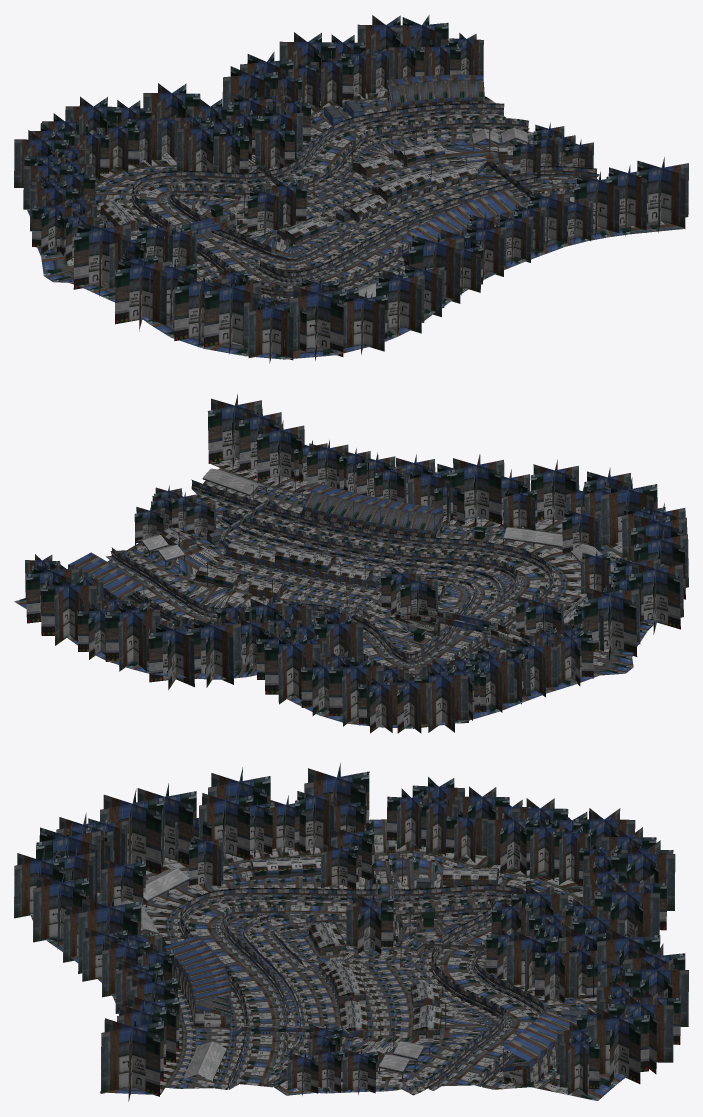
Rendered from nitroultra1.glb.
The picture shows the model from 3 angles, top to bottom: view 1: azimuth 30°, elevation 25°; view 2: azimuth 150°, elevation 25°; view 3: azimuth 270°, elevation 25°; orthographic projection. The views are drawn at different scales.
Visible parts, largest first — view 1: nitroultra1; view 2: nitroultra1; view 3: nitroultra1.
Boxes of the visible parts, x1=… form: nitroultra1: x1=14, y1=15, x2=688, y2=363; nitroultra1: x1=14, y1=394, x2=688, y2=733; nitroultra1: x1=14, y1=763, x2=688, y2=1101.
Size of the model in its own units: 364 by 46.93 by 349.
1 material, 1 textured.
